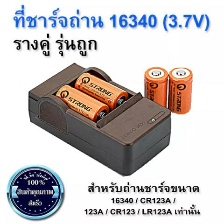battery: (54, 83, 110, 128), (73, 71, 130, 114), (141, 64, 171, 115), (166, 64, 195, 115)
